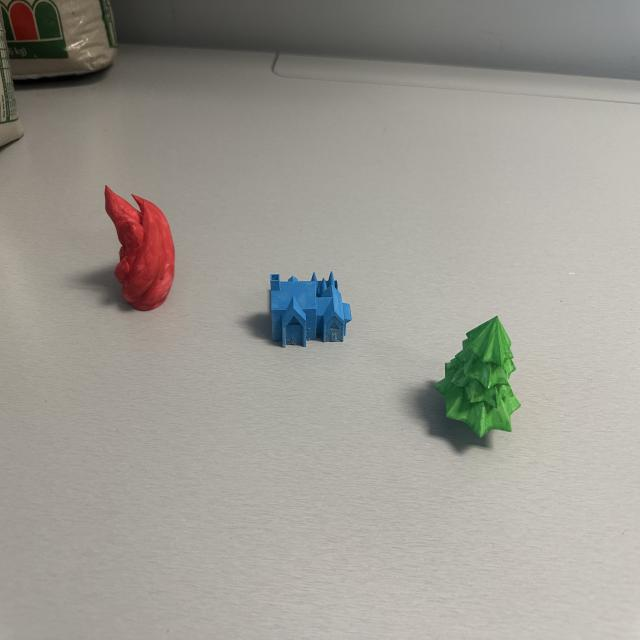fire: (101, 181, 177, 313)
house: (266, 266, 354, 348)
tree: (433, 312, 522, 440)
